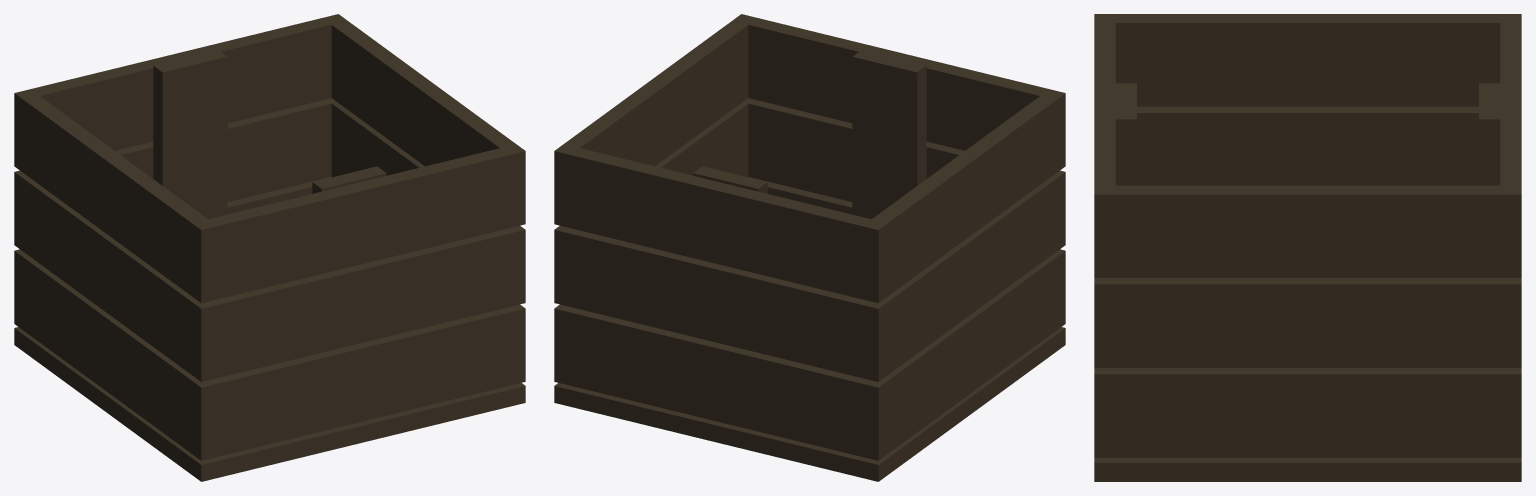
File: roman_crate_open_square.fbx
3 renders of one model, left to right at view 1: azimuth 30°, elevation 25°; view 2: azimuth 150°, elevation 25°; view 3: azimuth 270°, elevation 25°, orthographic. The views are drawn at different scales.
Parts seen in each view (by area): view 1: Cube.038; view 2: Cube.038; view 3: Cube.038.
Boxes of the visible parts, bbox=[...] form: Cube.038: bbox=[14, 14, 525, 481]; Cube.038: bbox=[554, 14, 1065, 481]; Cube.038: bbox=[1094, 14, 1521, 481].
Size of the model in its own units: 1 by 0.75 by 1.
